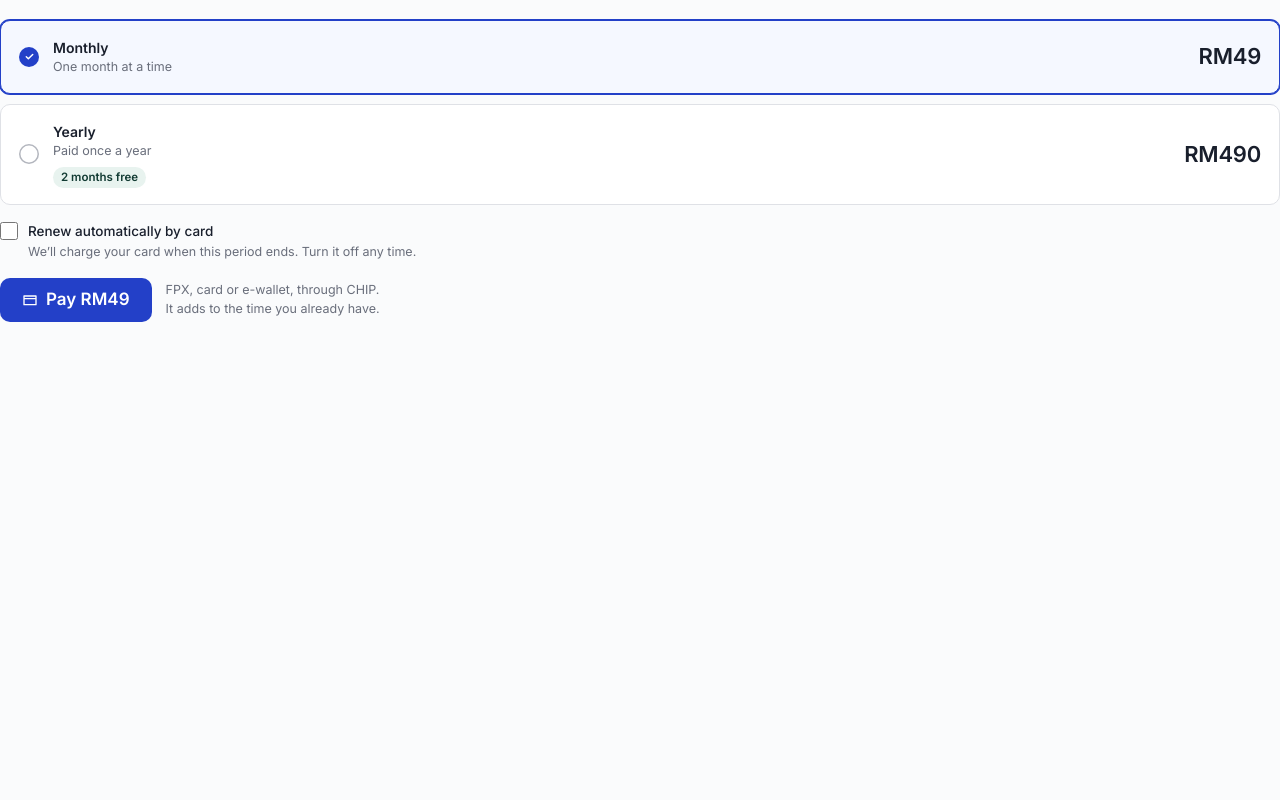
Test: PlanPay › raises nothing when the owner backs out
Step 1. Click the button "Pay RM49" → (76, 300), box [0,278,152,322]
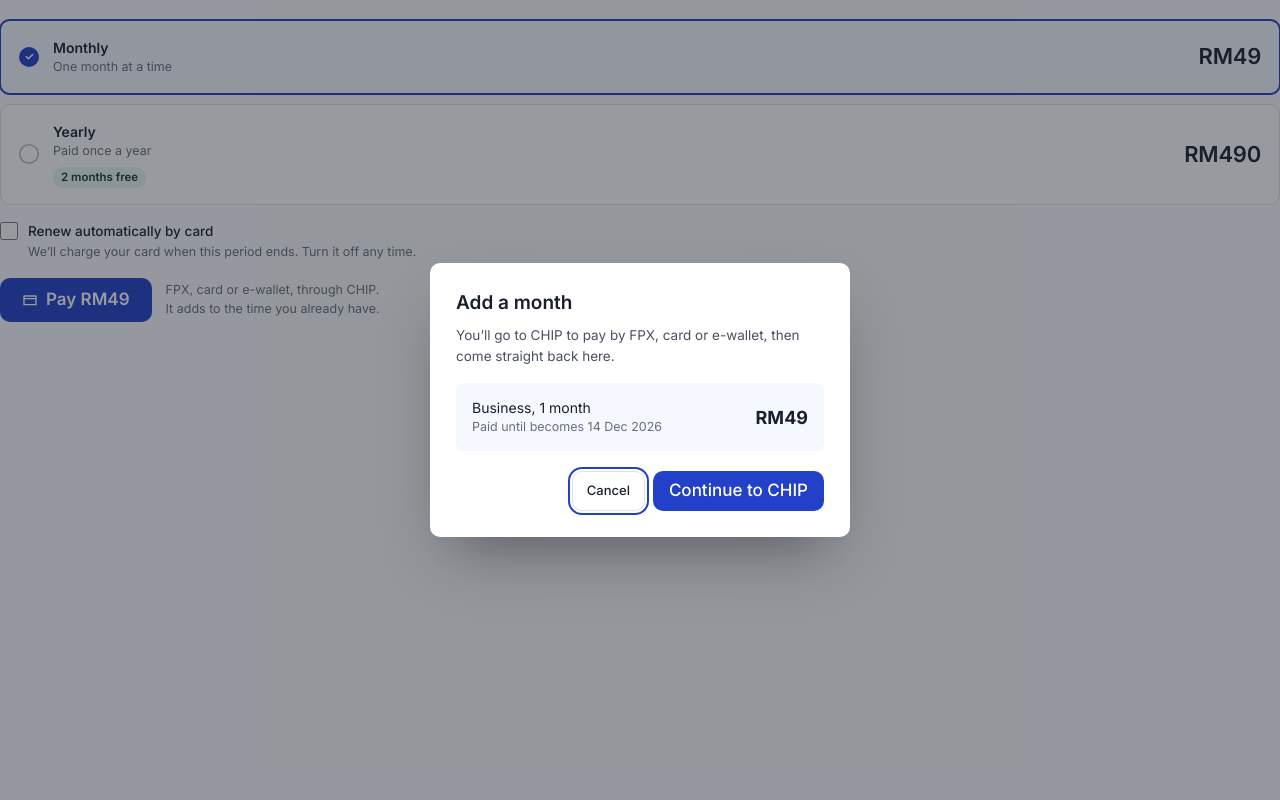
Step 2. Click the button "Cancel" → (608, 491), box [572,471,645,511]
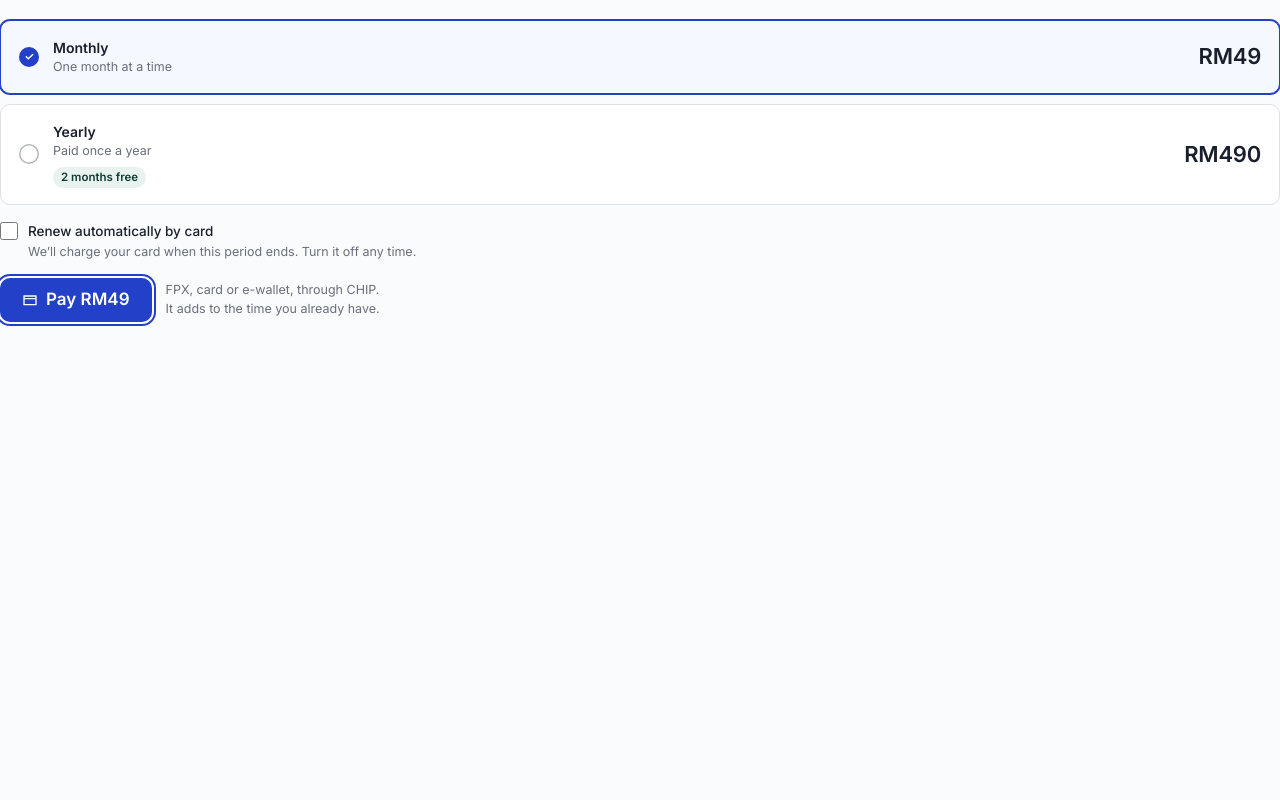
Result: the dialog is gone
